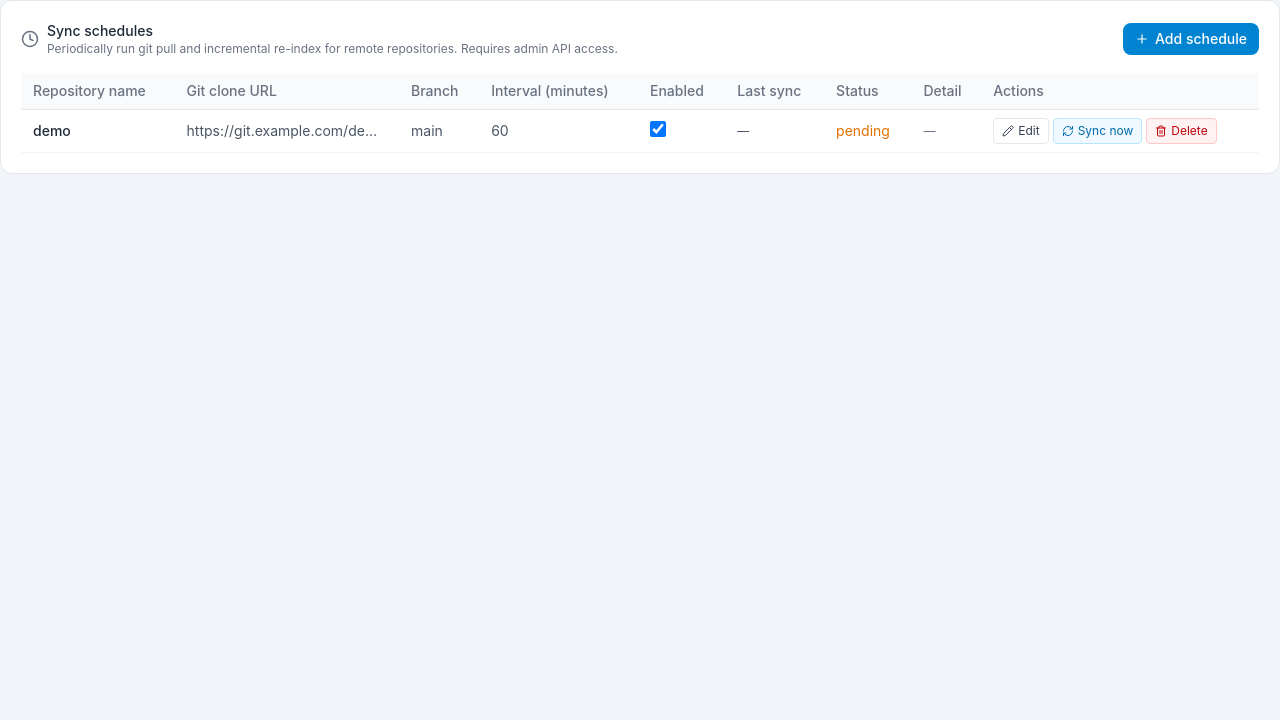
Scenario: SyncSettingsPanel › opens add schedule modal and saves
Step 1. Click the button "Add schedule" → [1191, 39], box [1123,23,1259,55]
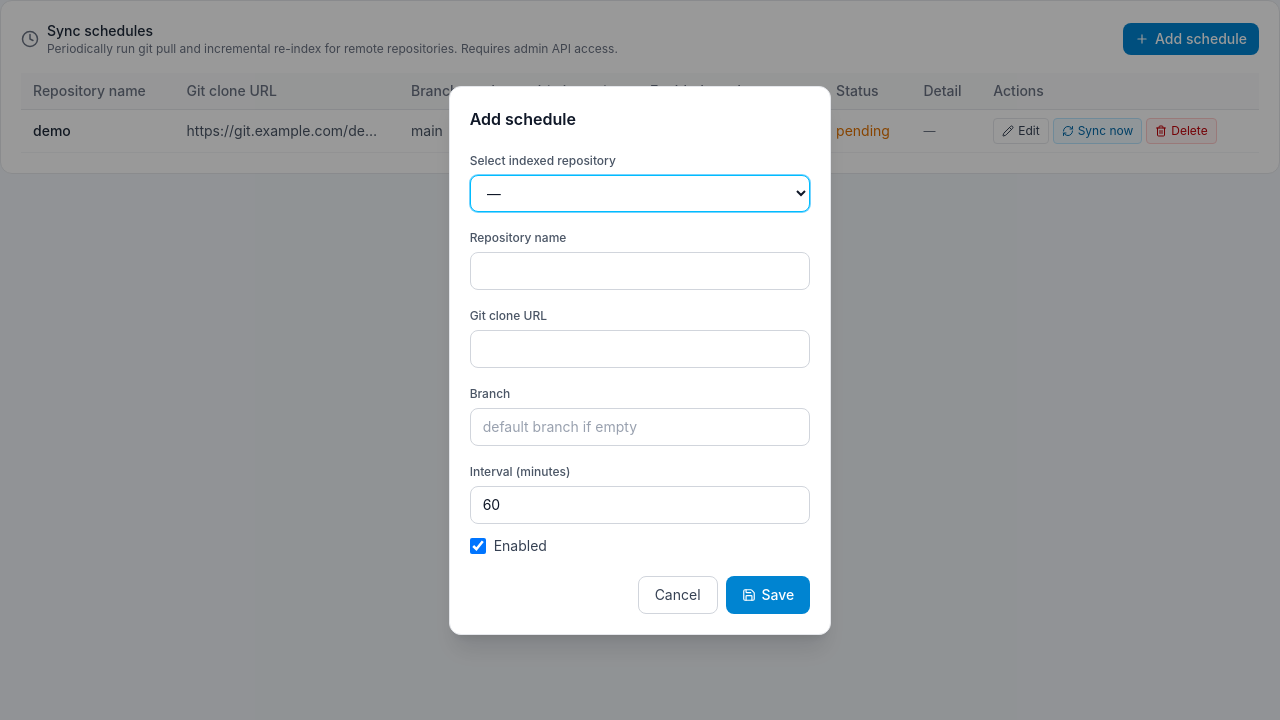
Step 2. Select "demo" in the dropdown → [640, 193], box [470,174,810,212]
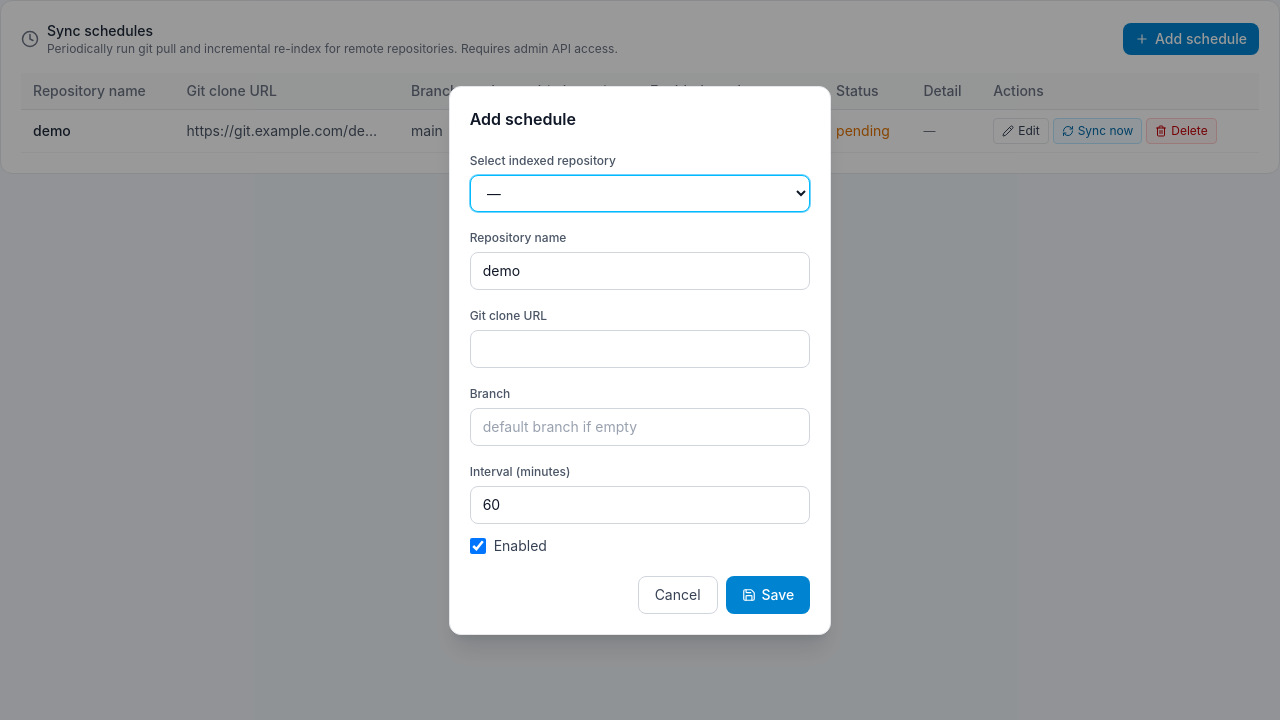
Step 3. Type "https://git.example.com/new.git" into the 2nd field → [640, 348], box [470,330,810,368]
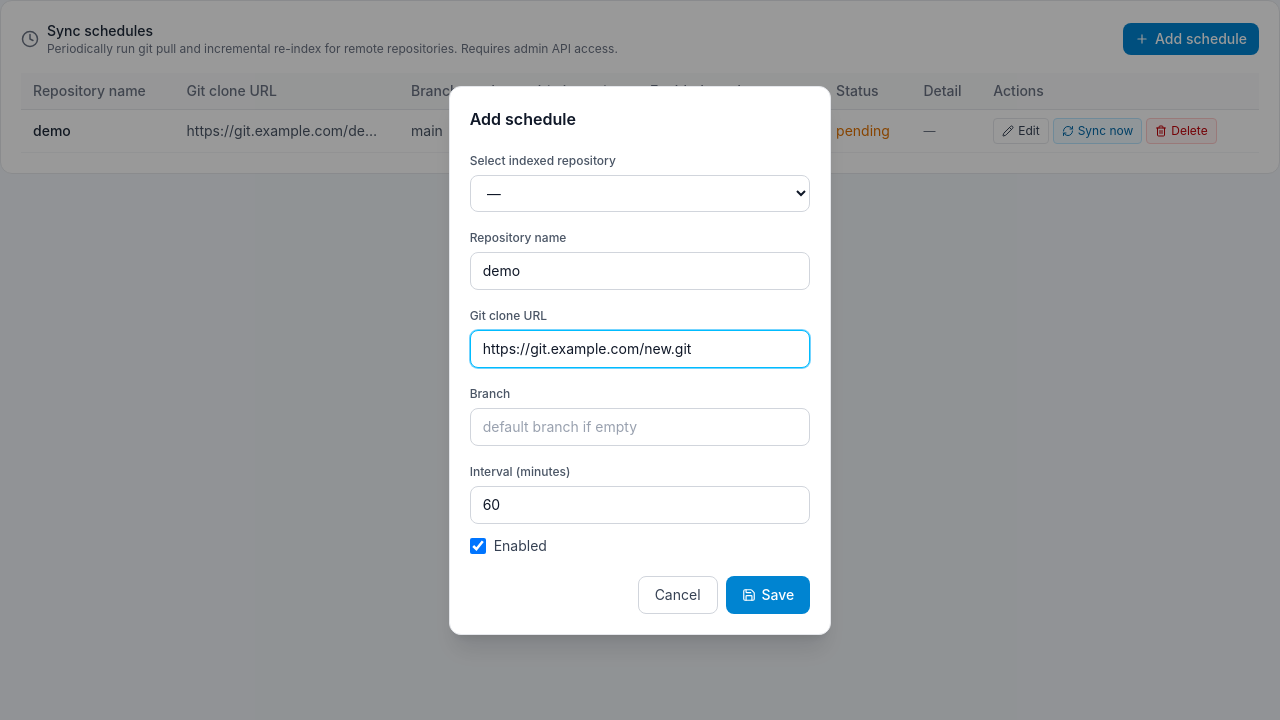
Step 4. Click the button "Save" → [768, 594], box [726,576,810,614]
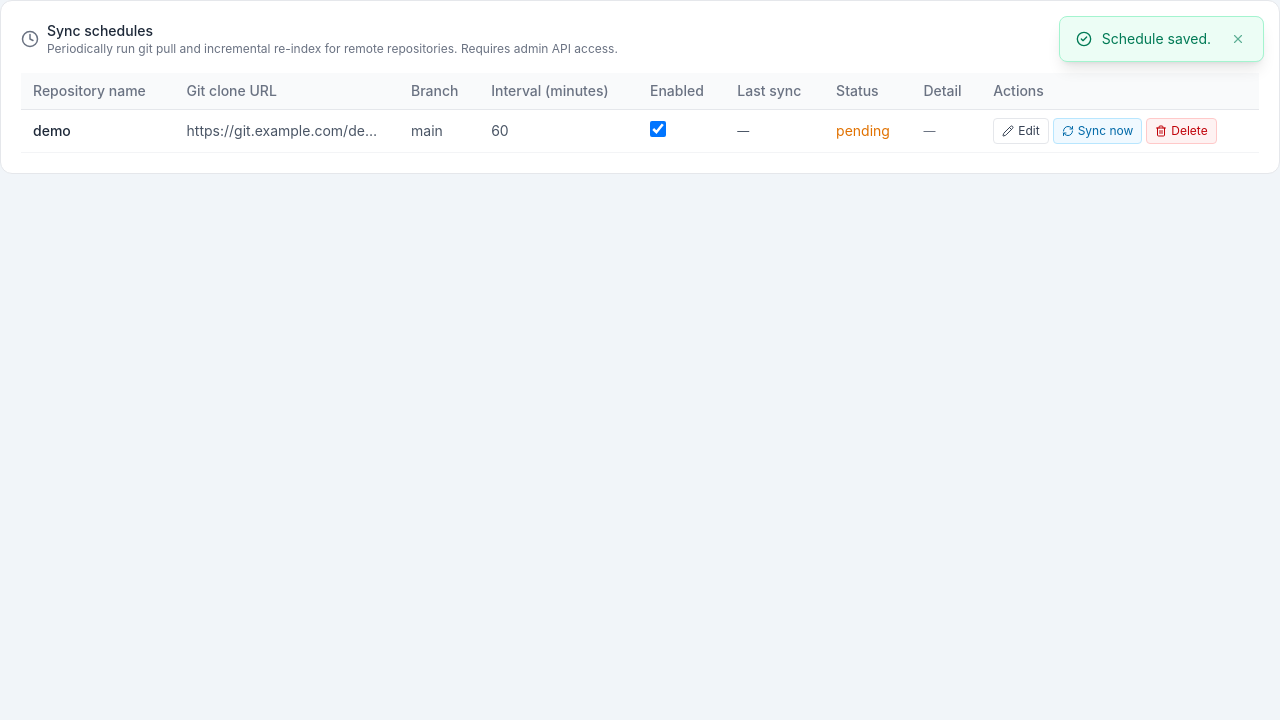
Expected: the dialog is gone
